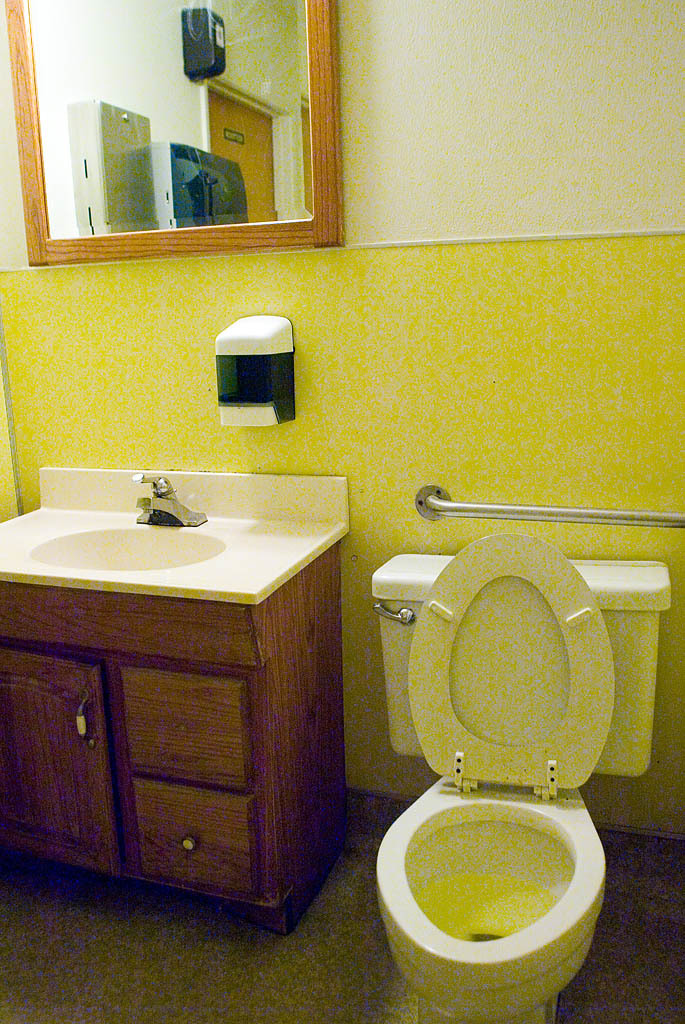tap: (133, 465, 172, 494)
